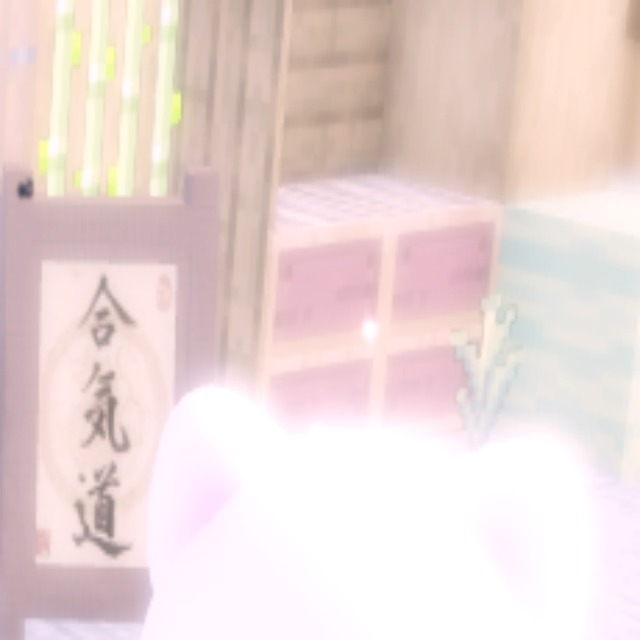urso_preto: (12, 173, 39, 205)
